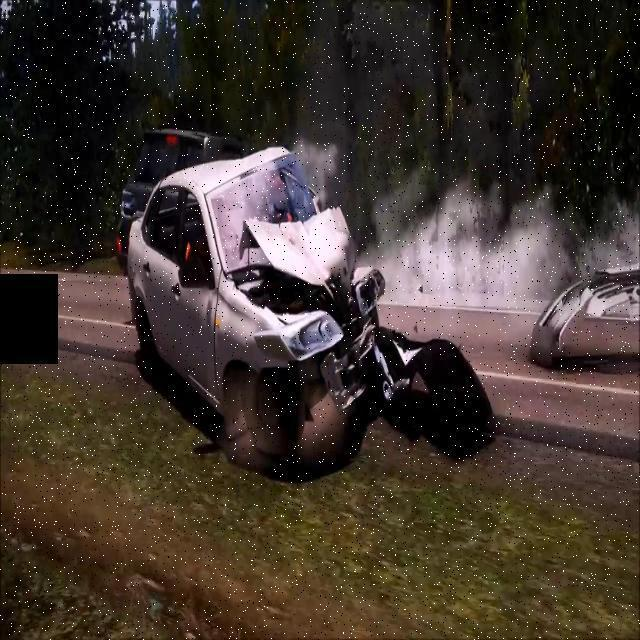multiple_accident: (103, 123, 640, 497)
